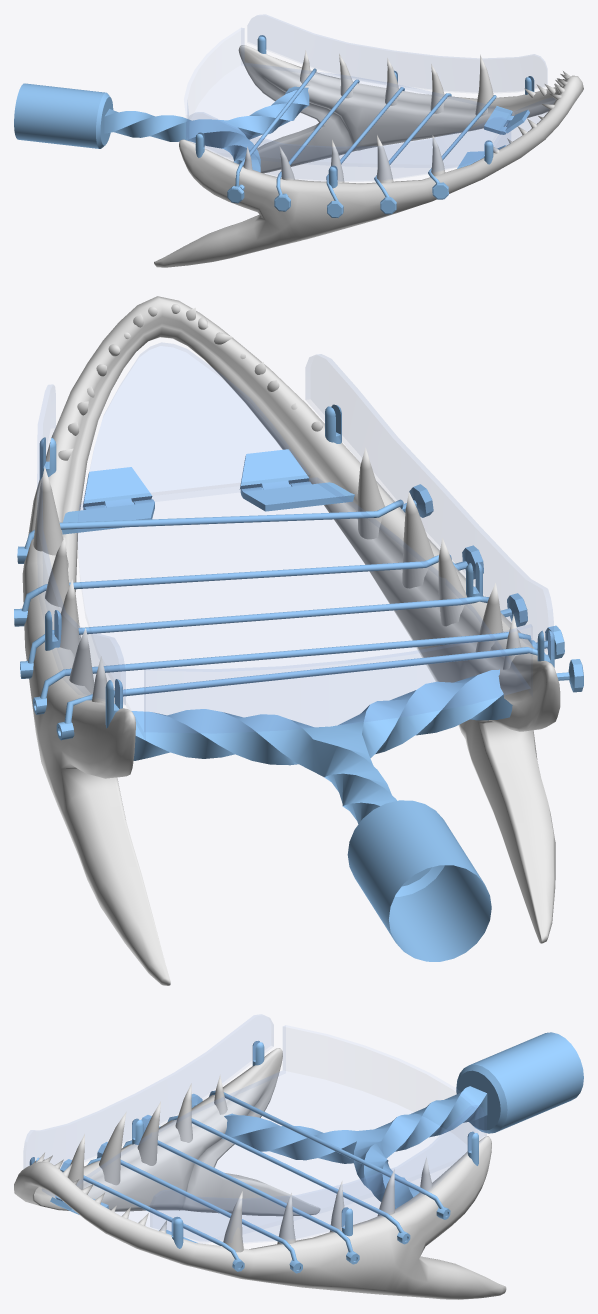
File: Väinämöinen's Kantele.FBX
The picture shows the model from 3 angles, top to bottom: view 1: azimuth 30°, elevation 25°; view 2: azimuth 150°, elevation 25°; view 3: azimuth 270°, elevation 25°; orthographic projection. The views are drawn at different scales.
Visible parts, largest first — view 1: Jaw, Side Wall, Side Wall001, Twisted Bar Support, Mount, Upper Platform, Platform End, String, Big Tooth007, String001, Hinge001, String002 (+7 smaller); view 2: Jaw, Upper Platform, Twisted Bar Support, Platform End, Mount, Side Wall, Side Wall001, Hinge (×2), Hinge001 (×2), String001, String, String002 (+10 smaller); view 3: Jaw, Side Wall001, Twisted Bar Support, Side Wall, Mount, String, String001, String002, String003, Big Tooth004, Upper Platform, String004 (+7 smaller).
Part boxes in pixels (x1,y1,x2,y2): Jaw: [154, 45, 583, 267]; Side Wall: [186, 112, 510, 180]; Side Wall001: [248, 15, 546, 92]; Twisted Bar Support: [104, 86, 309, 172]; Mount: [14, 83, 113, 148]; Upper Platform: [187, 28, 510, 140]; Platform End: [493, 98, 555, 147]; String: [235, 68, 316, 186]; Big Tooth007: [475, 54, 493, 116]; String001: [276, 79, 359, 194]; Hinge001: [484, 106, 513, 134]; String002: [326, 87, 404, 201]; Jaw: [22, 296, 560, 985]; Upper Platform: [77, 478, 531, 732]; Twisted Bar Support: [131, 669, 512, 823]; Platform End: [83, 343, 309, 502]; Mount: [347, 800, 491, 961]; Side Wall: [306, 354, 553, 655]; Side Wall001: [37, 385, 125, 704]; Hinge (×2): [239, 449, 354, 511]; Hinge001 (×2): [62, 467, 154, 534]; String001: [40, 632, 532, 698]; String: [64, 647, 545, 723]; String002: [28, 596, 489, 663]; Jaw: [14, 1048, 506, 1299]; Side Wall001: [150, 1105, 486, 1241]; Twisted Bar Support: [222, 1086, 487, 1208]; Side Wall: [24, 1015, 273, 1168]; Mount: [456, 1032, 583, 1133]; String: [209, 1090, 443, 1208]; String001: [167, 1115, 403, 1232]; String002: [123, 1140, 353, 1252]; String003: [87, 1157, 296, 1261]; Big Tooth004: [99, 1111, 126, 1185]; Upper Platform: [77, 1026, 285, 1185]; String004: [63, 1171, 238, 1259].
Size of the model in its own units: 0.2377 by 0.1114 by 0.2358.
